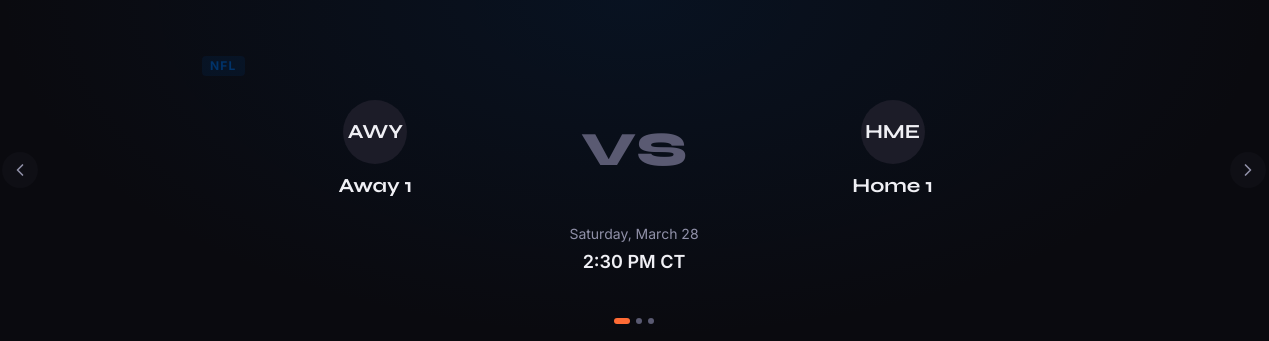
Test case: HeroBanner › navigates via dot buttons
The image size is (1269, 341).
Click the button named "Go to event".
click(651, 321)  # box x1=648 y1=318 x2=654 y2=324
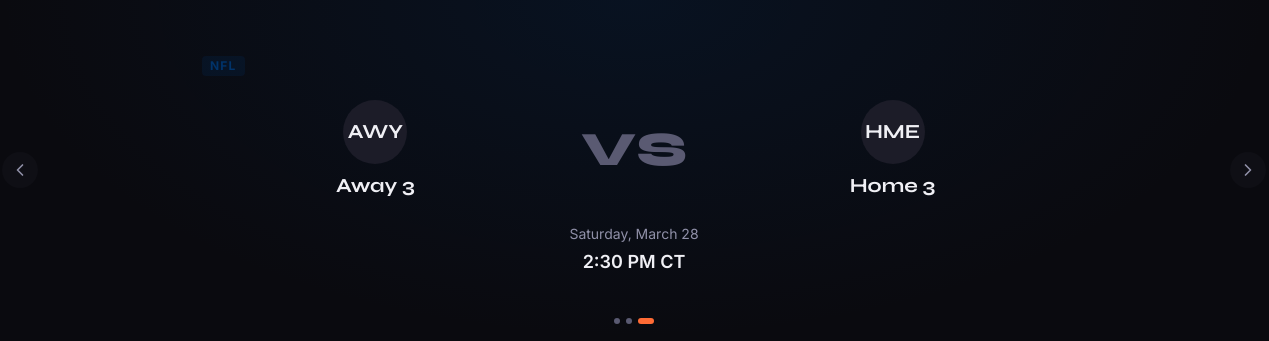
Result: the text "Home 3" is shown at x1=850 y1=173 x2=935 y2=198
